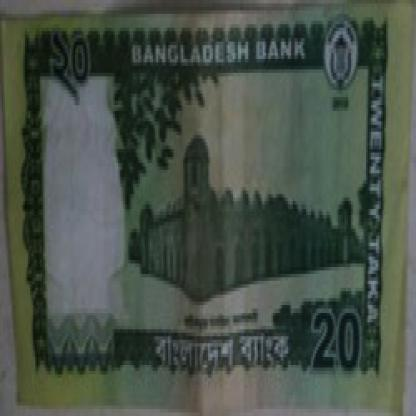Twenty: (301, 294, 363, 392), (45, 21, 106, 114)
